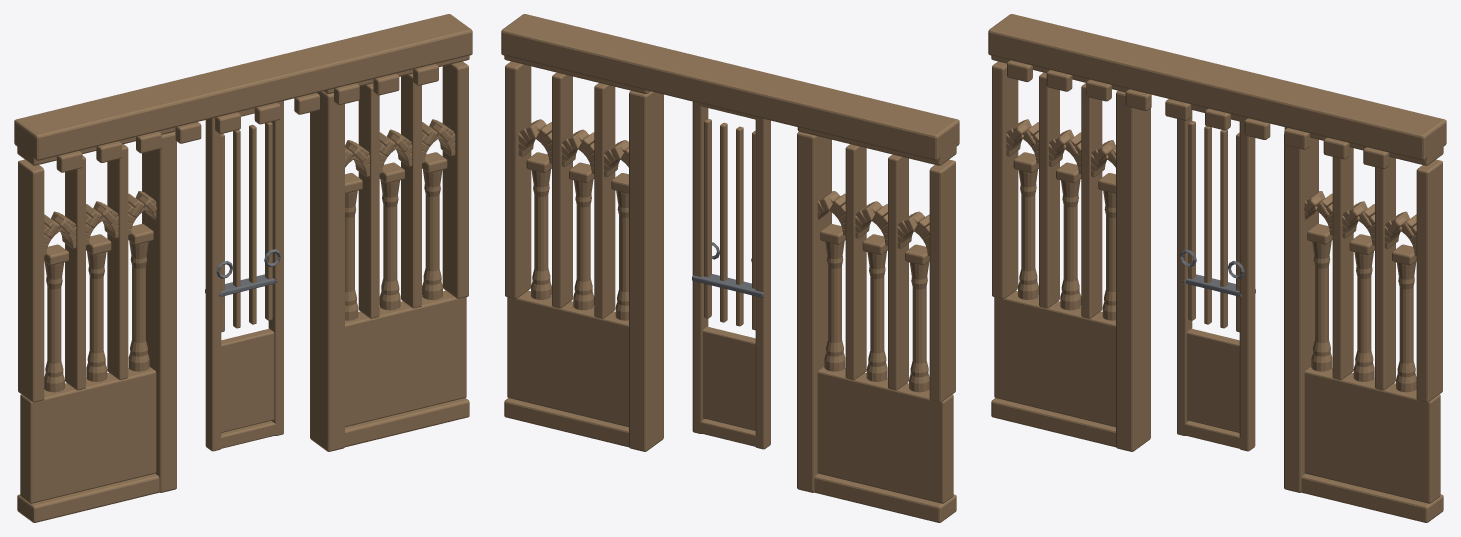
The model's file is monastery_chapel_screen.glb.
3 views of the same model, side by side, from view 1: azimuth 30°, elevation 25°; view 2: azimuth 150°, elevation 25°; view 3: azimuth 330°, elevation 25° (orthographic).
Visible parts, largest first — view 1: world; view 2: world; view 3: world.
Part boxes in pixels (x1=…): world: x1=14, y1=14, x2=472, y2=522; world: x1=501, y1=14, x2=959, y2=522; world: x1=988, y1=14, x2=1446, y2=522.
Size of the model in its own units: 2 by 1.71 by 0.2092.
